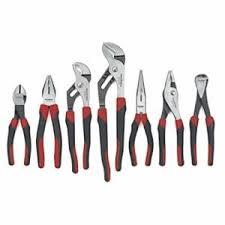pliers: (95, 40, 126, 182), (64, 60, 92, 174), (156, 69, 183, 166), (35, 73, 62, 168), (127, 68, 153, 166), (6, 83, 30, 165)
